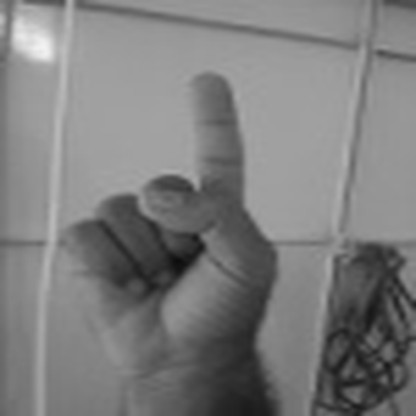d: (58, 66, 285, 362)
